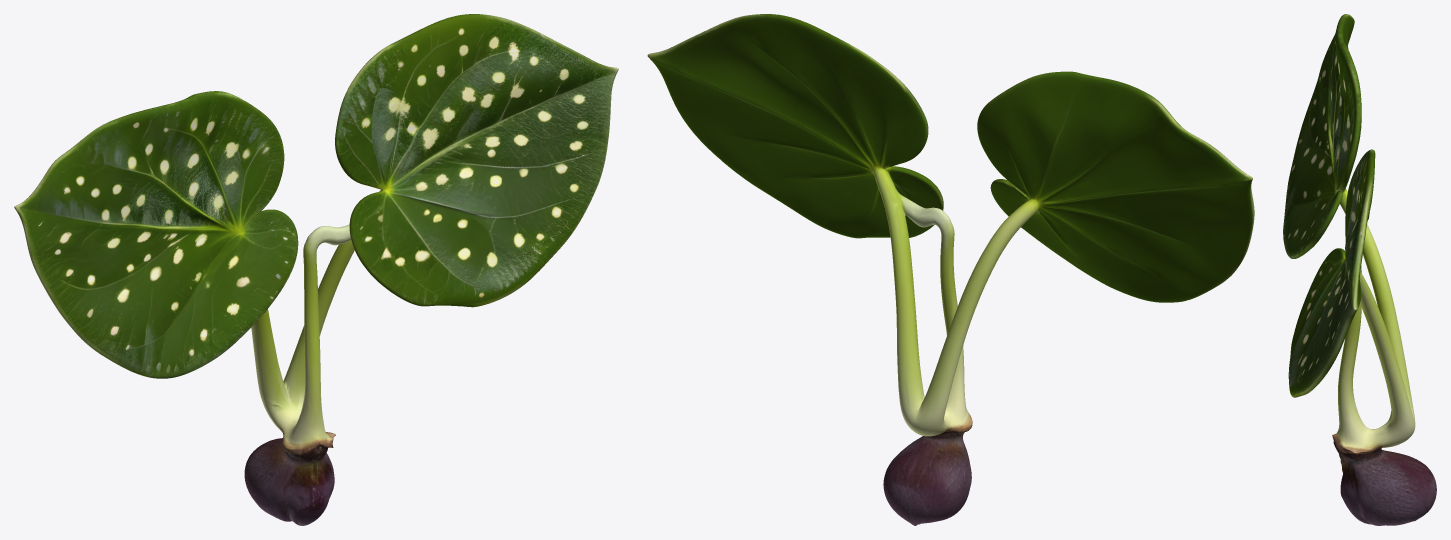
Rendered from duheng.glb.
3 views of the same model, side by side, from view 1: azimuth 30°, elevation 25°; view 2: azimuth 150°, elevation 25°; view 3: azimuth 270°, elevation 25° (orthographic). The views are drawn at different scales.
Visible parts, largest first — view 1: node_0; view 2: node_0; view 3: node_0.
Part boxes in pixels (x1=…): node_0: x1=14, y1=14, x2=618, y2=525; node_0: x1=647, y1=14, x2=1254, y2=525; node_0: x1=1283, y1=14, x2=1436, y2=525.
Size of the model in its own units: 1.06 by 0.7787 by 0.2551.
1 material, 1 textured.
